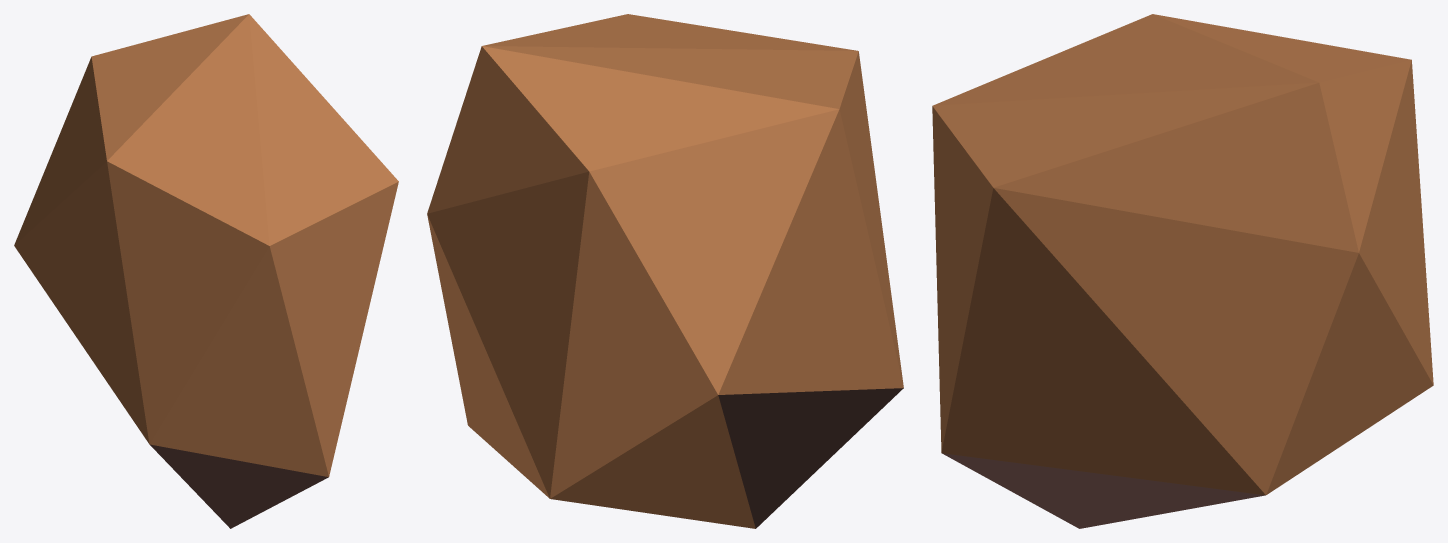
File: Willow_Autumn_4.lod4.glb
3 renders of one model, left to right at view 1: azimuth 30°, elevation 25°; view 2: azimuth 150°, elevation 25°; view 3: azimuth 270°, elevation 25°, orthographic. The views are drawn at different scales.
Visible parts, largest first — view 1: Willow_Autumn_4; view 2: Willow_Autumn_4; view 3: Willow_Autumn_4.
Boxes of the visible parts, box(x1,y1,x2,y2) form: Willow_Autumn_4: box(14, 14, 398, 528); Willow_Autumn_4: box(427, 14, 903, 528); Willow_Autumn_4: box(932, 14, 1433, 528).
Size of the model in its own units: 2.13 by 3.45 by 3.04.
